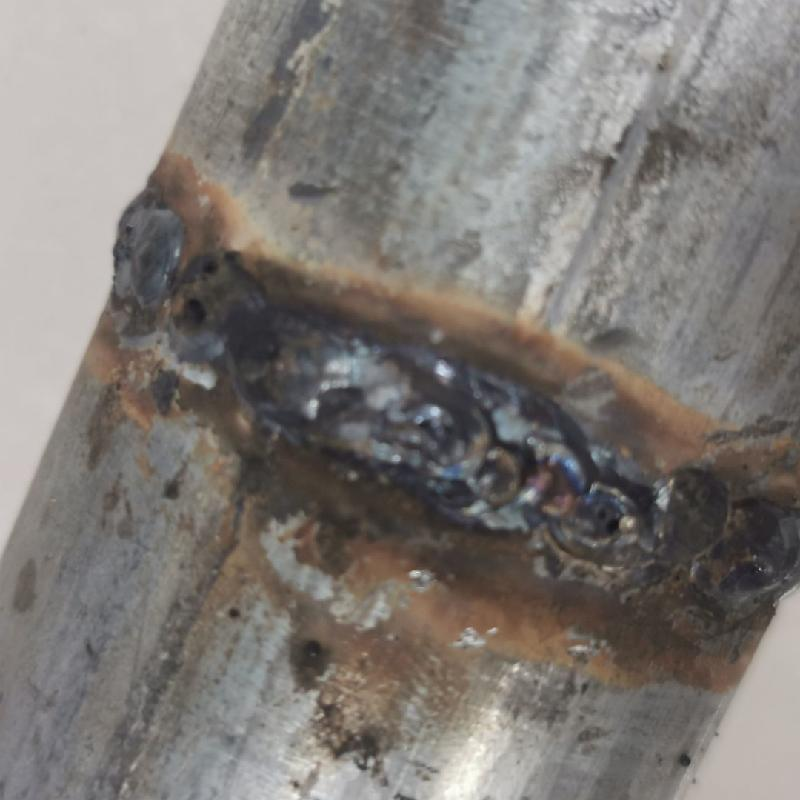Surface_pores: (166, 251, 242, 341)
crater: (431, 383, 640, 564)
wrong_size: (98, 198, 401, 476), (652, 467, 797, 610)
